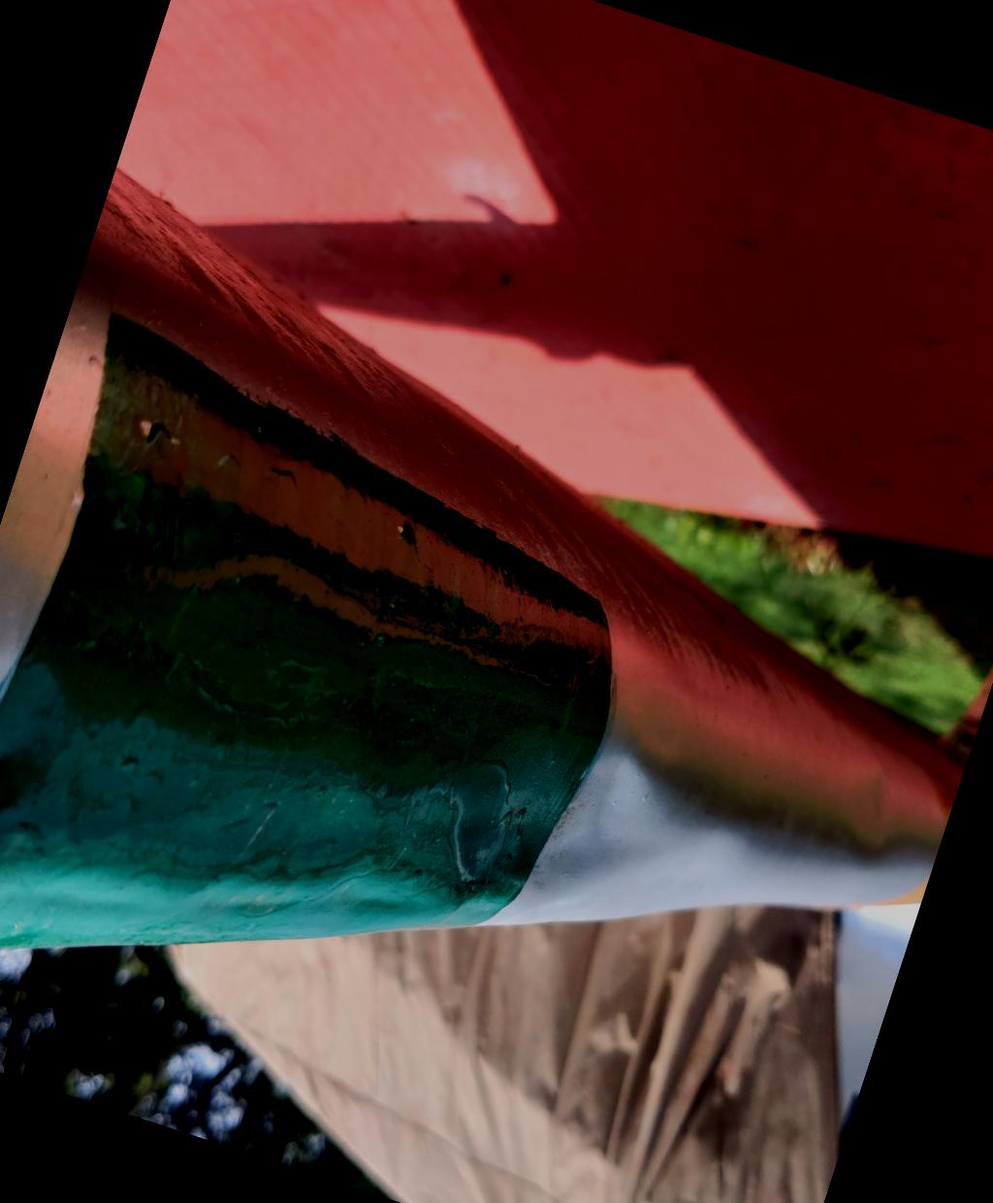dent: (426, 664, 741, 983), (0, 585, 145, 894)
